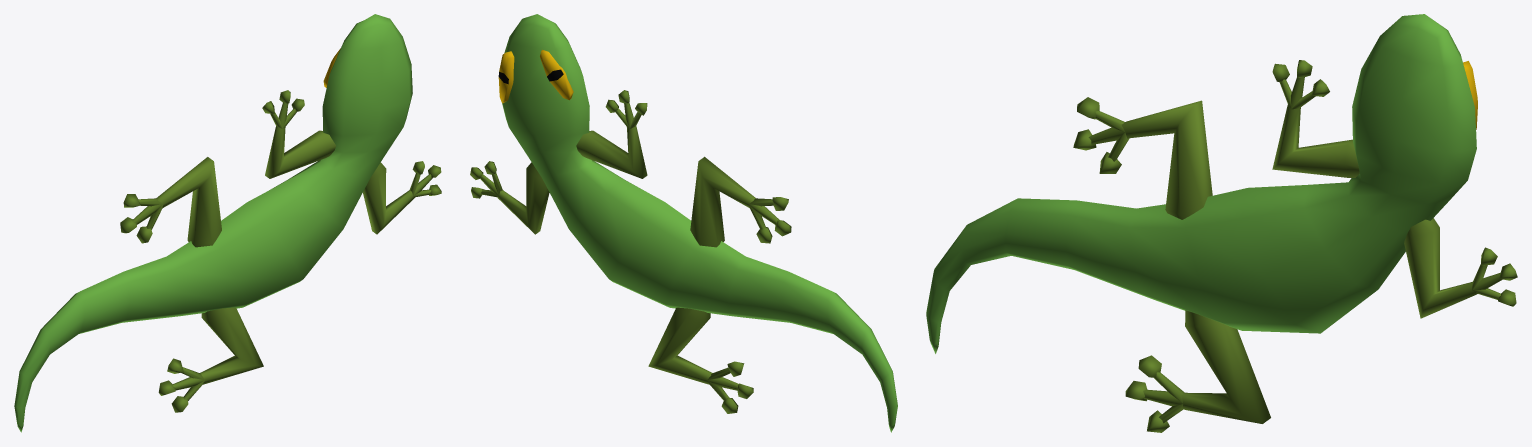
File: Gecko.fbx
3 renders of one model, left to right at view 1: azimuth 30°, elevation 25°; view 2: azimuth 150°, elevation 25°; view 3: azimuth 330°, elevation 25°, orthographic. The views are drawn at different scales.
Visible parts, largest first — view 1: Gecko; view 2: Gecko; view 3: Gecko.
Part boxes in pixels (x1,y1,x2,y2): Gecko: (14,14,441,432); Gecko: (470,14,897,432); Gecko: (926,14,1517,432).
Bounding box in the file's own units: 1.21 × 0.9509 × 0.1479.
